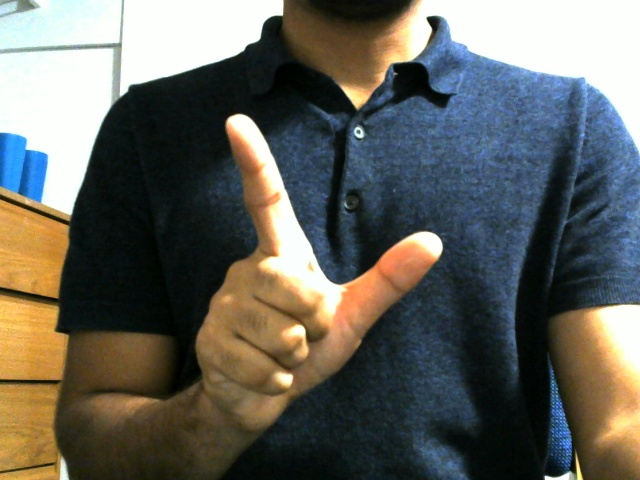L: (179, 100, 452, 416)
